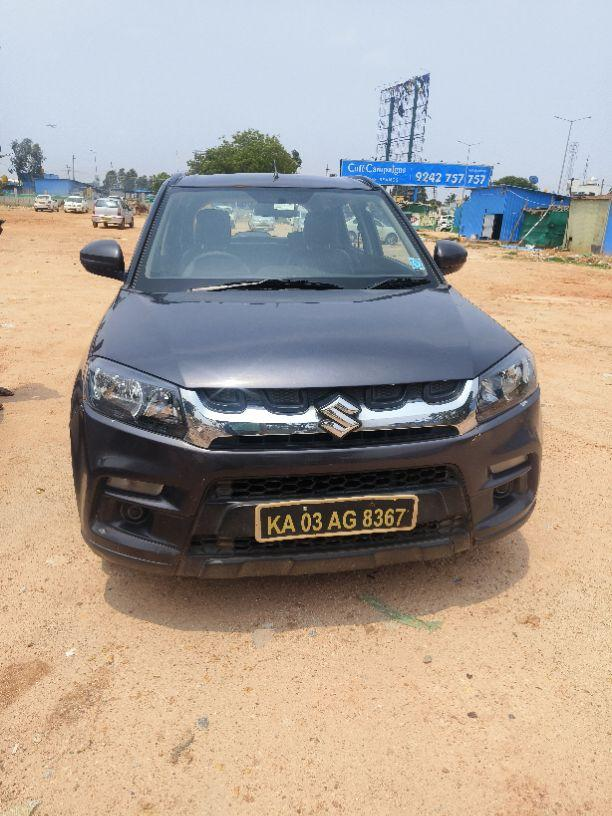license_plate: (253, 493, 419, 543)
